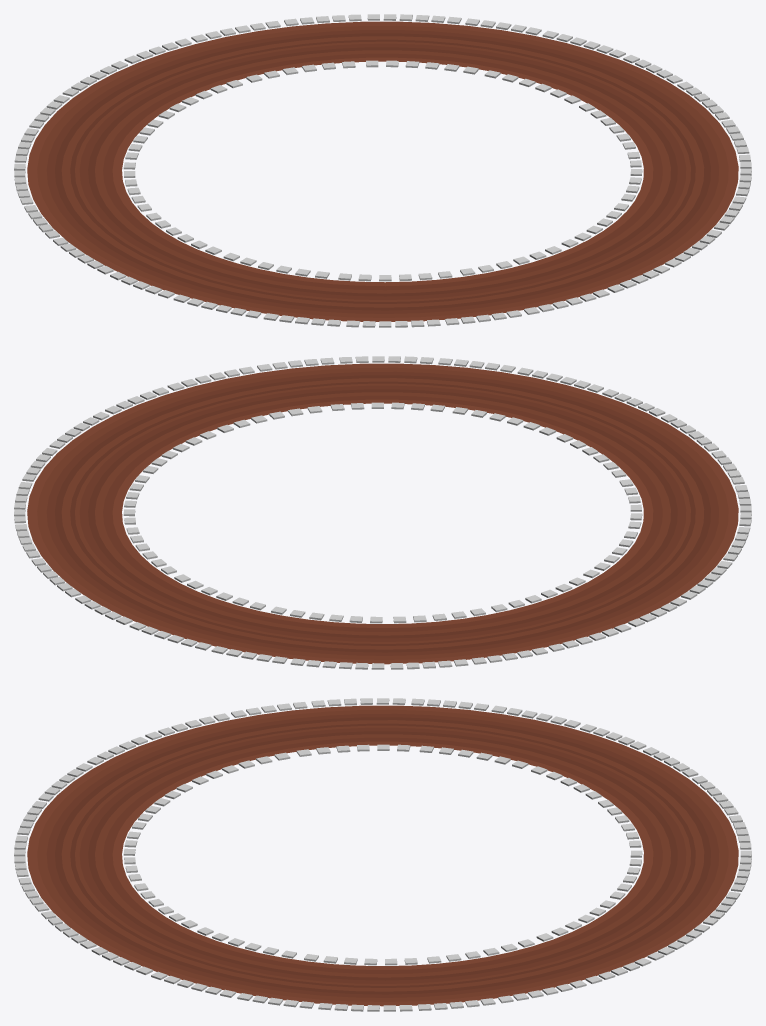
File: Aerrena path.fbx
3 views of the same model, one above another, from view 1: azimuth 30°, elevation 25°; view 2: azimuth 150°, elevation 25°; view 3: azimuth 270°, elevation 25° (orthographic).
Parts seen in each view (by area): view 1: SR_Env_Concrete_Track_CornerSmooth_Sand_Skids.001, SR_Env_Concrete_Track_CornerSmooth_Sand_Skids.003; view 2: SR_Env_Concrete_Track_CornerSmooth_Sand_Skids.001, SR_Env_Concrete_Track_CornerSmooth_Sand_Skids.003; view 3: SR_Env_Concrete_Track_CornerSmooth_Sand_Skids.001, SR_Env_Concrete_Track_CornerSmooth_Sand_Skids.003.
Boxes of the visible parts, bbox=[...] form: SR_Env_Concrete_Track_CornerSmooth_Sand_Skids.001: bbox=[27, 21, 738, 321]; SR_Env_Concrete_Track_CornerSmooth_Sand_Skids.003: bbox=[14, 14, 751, 327]; SR_Env_Concrete_Track_CornerSmooth_Sand_Skids.001: bbox=[27, 363, 738, 664]; SR_Env_Concrete_Track_CornerSmooth_Sand_Skids.003: bbox=[14, 356, 751, 669]; SR_Env_Concrete_Track_CornerSmooth_Sand_Skids.001: bbox=[27, 705, 738, 1006]; SR_Env_Concrete_Track_CornerSmooth_Sand_Skids.003: bbox=[14, 698, 751, 1011].
Bounding box in the file's own units: 2145 × 5.57 × 2145.
